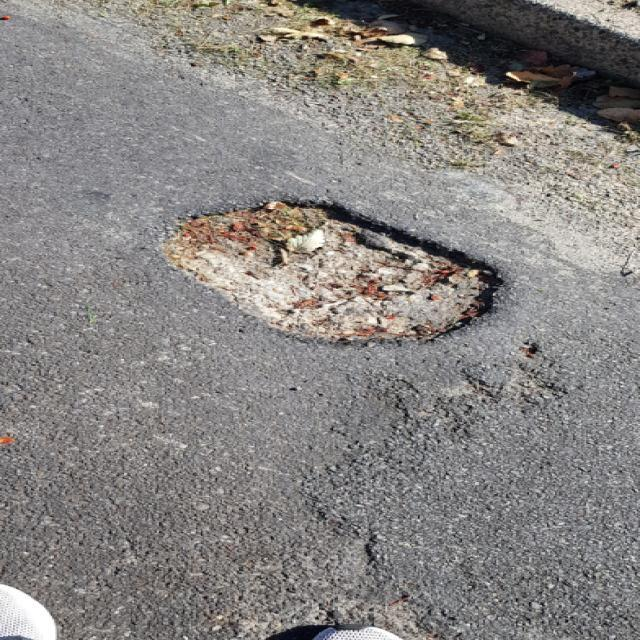Pothole: (155, 193, 516, 352)
